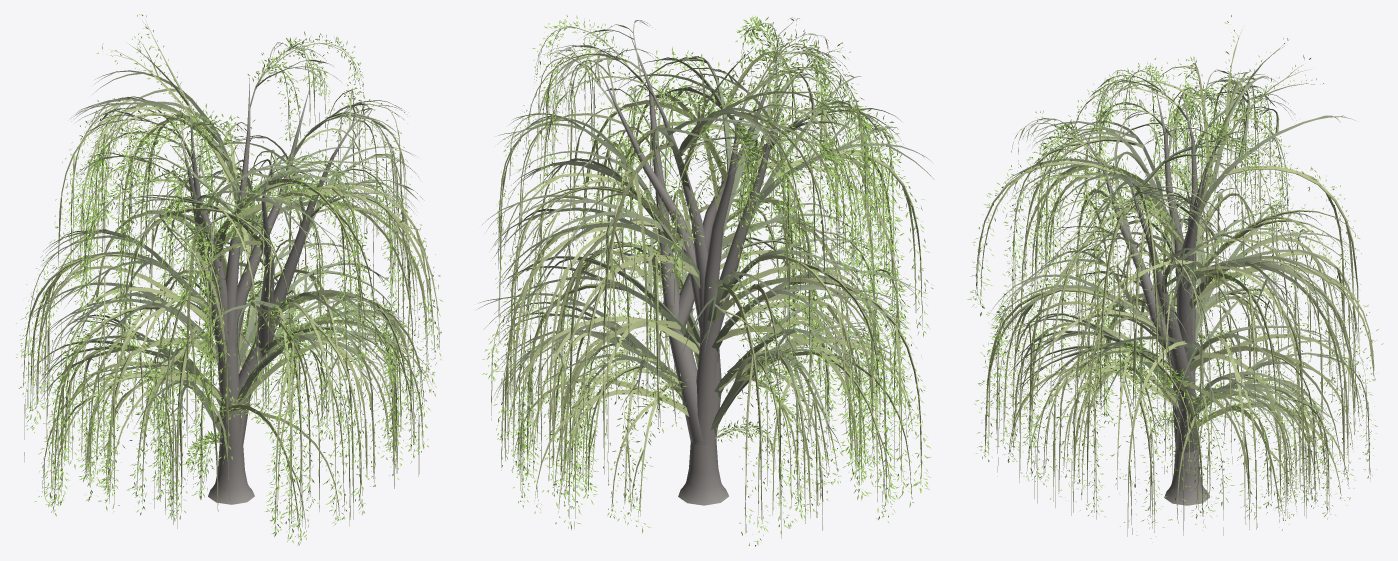
File: tree-willow-weeping.glb
The picture shows the model from 3 angles, left to right: view 1: azimuth 30°, elevation 25°; view 2: azimuth 150°, elevation 25°; view 3: azimuth 270°, elevation 25°; orthographic projection. The views are drawn at different scales.
Parts seen in each view (by area): view 1: Object_9, Object_8, Object_3, Object_2, Object_12, Object_4; view 2: Object_9, Object_8, Object_2, Object_3, Object_12, Object_4; view 3: Object_9, Object_8, Object_2, Object_3, Object_12, Object_4.
Part boxes in pixels (x1,y1,x2,y2): Object_9: [23, 20, 439, 536]; Object_8: [28, 41, 424, 441]; Object_3: [34, 82, 436, 542]; Object_2: [16, 14, 432, 545]; Object_12: [179, 77, 358, 504]; Object_4: [73, 120, 443, 369]; Object_9: [491, 18, 922, 538]; Object_8: [476, 17, 934, 454]; Object_2: [482, 14, 921, 546]; Object_3: [492, 16, 933, 507]; Object_12: [599, 35, 795, 505]; Object_4: [574, 32, 883, 316]; Object_9: [975, 29, 1374, 542]; Object_8: [990, 69, 1363, 458]; Object_2: [1003, 15, 1383, 530]; Object_3: [974, 100, 1362, 538]; Object_12: [1080, 91, 1220, 505]; Object_4: [967, 85, 1291, 418].
Size of the model in its own units: 11.51 by 13.15 by 11.16.
